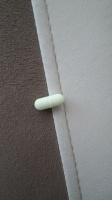Aferin: (33, 94, 65, 111)
